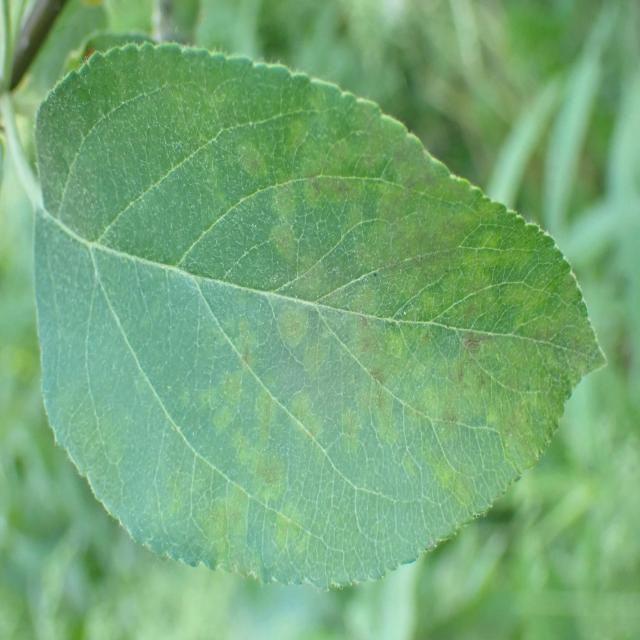scab: (124, 85, 605, 590)
